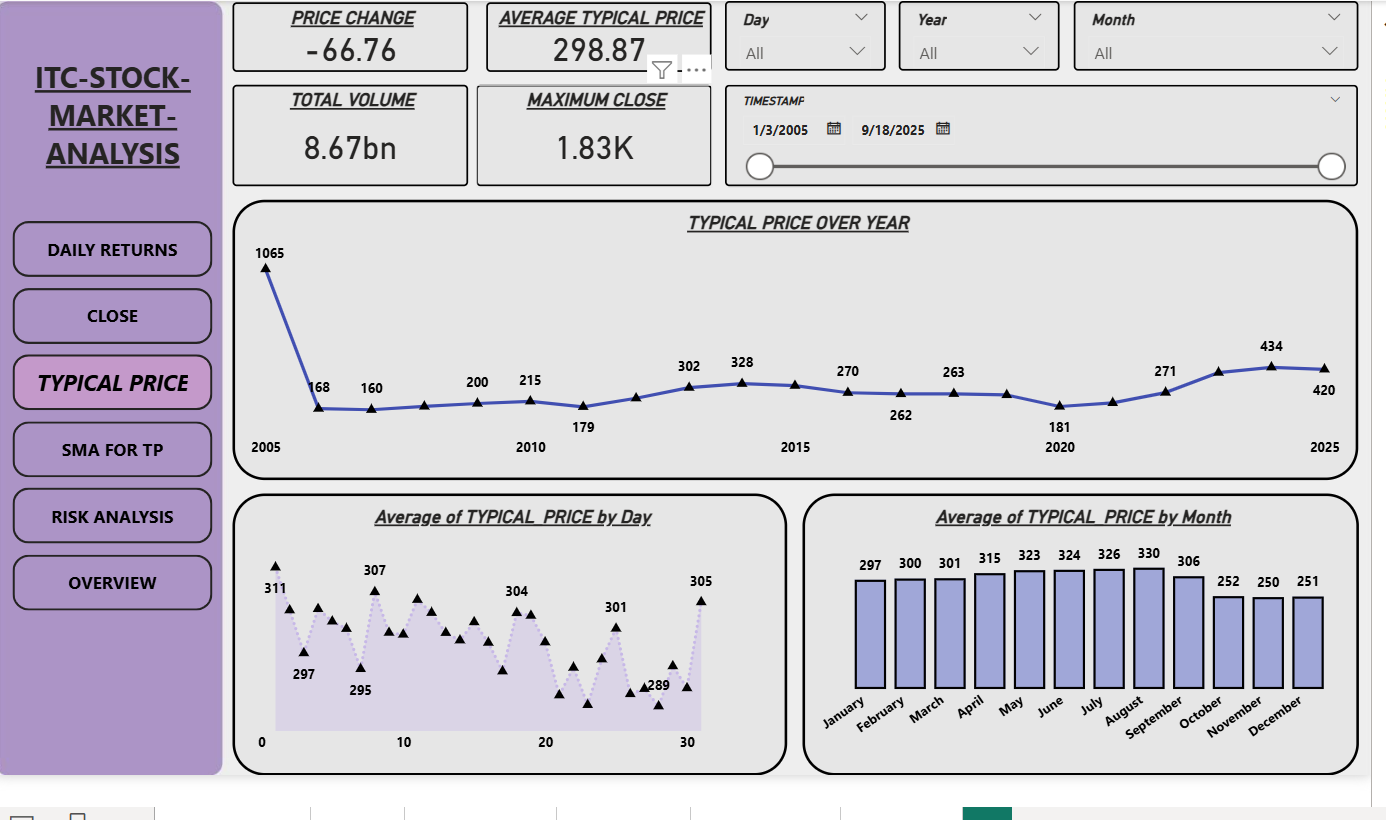

The page's visual inventory and layout, read from the dashboard file:
{"tool":"powerbi","page":{"name":"TYPICAL PRICE","canvas":[1280,720],"ordinal":2},"visuals":[{"type":"pageNavigator","box":[16.5,204.5,186.6,362],"z":0},{"type":"textbox","box":[16.5,48,186.6,124.9],"z":1000},{"type":"lineChart","title":"TYPICAL PRICE OVER YEAR","fields":{"Category":["FINAL_ITC_STOCK_UPDATED_TABLE.TIMESTAMP.Variation.Date Hierarchy.Year"],"Y":["Avg(FINAL_ITC_STOCK_UPDATED_TABLE.TYPICAL_PRICE)"]},"box":[220.9,185.2,1047,260.7],"z":2000},{"type":"areaChart","fields":{"Category":["FINAL_ITC_STOCK_UPDATED_TABLE.TIMESTAMP.Variation.Date Hierarchy.Day"],"Y":["Avg(FINAL_ITC_STOCK_UPDATED_TABLE.TYPICAL_PRICE)"]},"box":[220.9,458.3,516,262.1],"z":3000},{"type":"columnChart","fields":{"Category":["FINAL_ITC_STOCK_UPDATED_TABLE.TIMESTAMP.Variation.Date Hierarchy.Month"],"Y":["Avg(FINAL_ITC_STOCK_UPDATED_TABLE.TYPICAL_PRICE)"]},"box":[750.6,458.3,517.3,262.1],"z":4000},{"type":"card","title":"TOTAL VOLUME","fields":{"Values":["Sum(FINAL_ITC_STOCK_UPDATED_TABLE.VOLUME)"]},"box":[220.9,78.2,219.6,94.7],"z":5000},{"type":"card","title":"AVERAGE TYPICAL PRICE","fields":{"Values":["Avg(FINAL_ITC_STOCK_UPDATED_TABLE.TYPICAL_PRICE)"]},"box":[456.9,1.4,209.9,64.5],"z":6000},{"type":"slicer","fields":{"Values":["FINAL_ITC_STOCK_UPDATED_TABLE.TIMESTAMP.Variation.Date Hierarchy.Year"]},"box":[841.2,0,149.6,64.5],"z":7000},{"type":"slicer","fields":{"Values":["FINAL_ITC_STOCK_UPDATED_TABLE.TIMESTAMP.Variation.Date Hierarchy.Month"]},"box":[1003.1,0,264.8,64.5],"z":8000},{"type":"slicer","fields":{"Values":["FINAL_ITC_STOCK_UPDATED_TABLE.TIMESTAMP.Variation.Date Hierarchy.Day"]},"box":[679.2,0,149.6,64.5],"z":9000},{"type":"card","title":"MAXIMUM CLOSE","fields":{"Values":["Max(FINAL_ITC_STOCK_UPDATED_TABLE.CLOSE)"]},"box":[447.3,78.2,219.6,94.7],"z":10000},{"type":"card","title":"PRICE CHANGE","fields":{"Values":["FINAL_ITC_STOCK_UPDATED_TABLE.Price_Change%"]},"box":[220.9,1.4,219.6,64.5],"z":11000},{"type":"slicer","fields":{"Values":["FINAL_ITC_STOCK_UPDATED_TABLE.TIMESTAMP"]},"box":[679.2,78.2,588.7,94.7],"z":12000}]}

Visuals, with their boxes on the page's 1280x720 design canvas (x1, y1, x2, y2). These are canvas units, not pixel positions in the 1386x820 screenshot, which may show the page scaled, cropped or inside an application window:
pageNavigator: {"x1": 16, "y1": 204, "x2": 203, "y2": 566}
textbox: {"x1": 16, "y1": 48, "x2": 203, "y2": 173}
"TYPICAL PRICE OVER YEAR" lineChart: {"x1": 221, "y1": 185, "x2": 1268, "y2": 446}
areaChart - FINAL_ITC_STOCK_UPDATED_TABLE.TIMESTAMP.Variation.Date Hierarchy.Day x Avg(FINAL_ITC_STOCK_UPDATED_TABLE.TYPICAL_PRICE): {"x1": 221, "y1": 458, "x2": 737, "y2": 720}
columnChart - FINAL_ITC_STOCK_UPDATED_TABLE.TIMESTAMP.Variation.Date Hierarchy.Month x Avg(FINAL_ITC_STOCK_UPDATED_TABLE.TYPICAL_PRICE): {"x1": 751, "y1": 458, "x2": 1268, "y2": 720}
"TOTAL VOLUME" card: {"x1": 221, "y1": 78, "x2": 440, "y2": 173}
"AVERAGE TYPICAL PRICE" card: {"x1": 457, "y1": 1, "x2": 667, "y2": 66}
slicer - FINAL_ITC_STOCK_UPDATED_TABLE.TIMESTAMP.Variation.Date Hierarchy.Year: {"x1": 841, "y1": 0, "x2": 991, "y2": 64}
slicer - FINAL_ITC_STOCK_UPDATED_TABLE.TIMESTAMP.Variation.Date Hierarchy.Month: {"x1": 1003, "y1": 0, "x2": 1268, "y2": 64}
slicer - FINAL_ITC_STOCK_UPDATED_TABLE.TIMESTAMP.Variation.Date Hierarchy.Day: {"x1": 679, "y1": 0, "x2": 829, "y2": 64}
"MAXIMUM CLOSE" card: {"x1": 447, "y1": 78, "x2": 667, "y2": 173}
"PRICE CHANGE" card: {"x1": 221, "y1": 1, "x2": 440, "y2": 66}
slicer - FINAL_ITC_STOCK_UPDATED_TABLE.TIMESTAMP: {"x1": 679, "y1": 78, "x2": 1268, "y2": 173}
